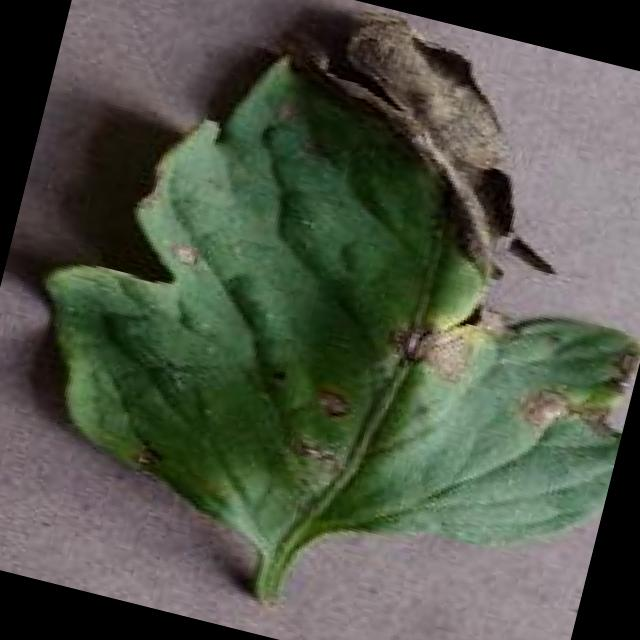leaf blight: (35, 21, 640, 606)
